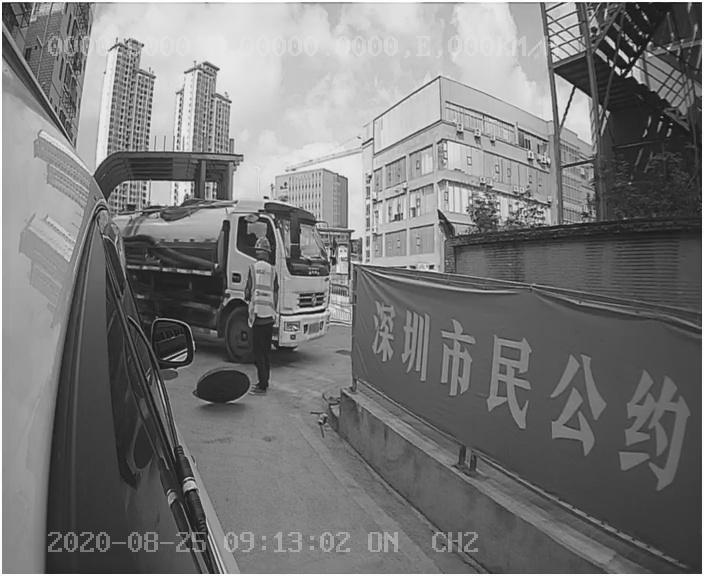person: (242, 240, 281, 399)
